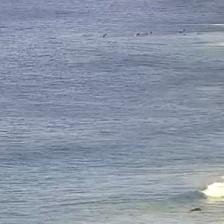surfer: (102, 33, 108, 38), (136, 32, 141, 36), (149, 31, 154, 35), (182, 28, 186, 33), (146, 32, 148, 36)
